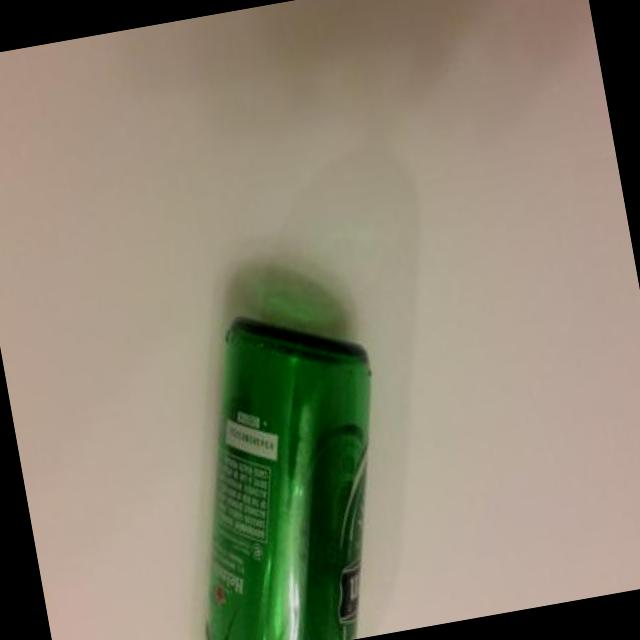chai_thuy_tinh: (203, 318, 373, 640)
